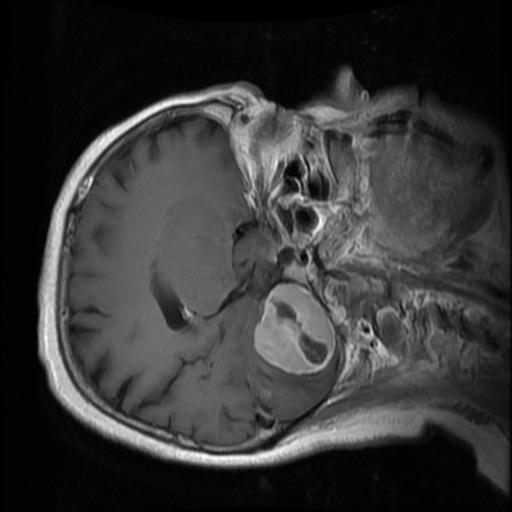meningioma: (253, 282, 335, 376)
